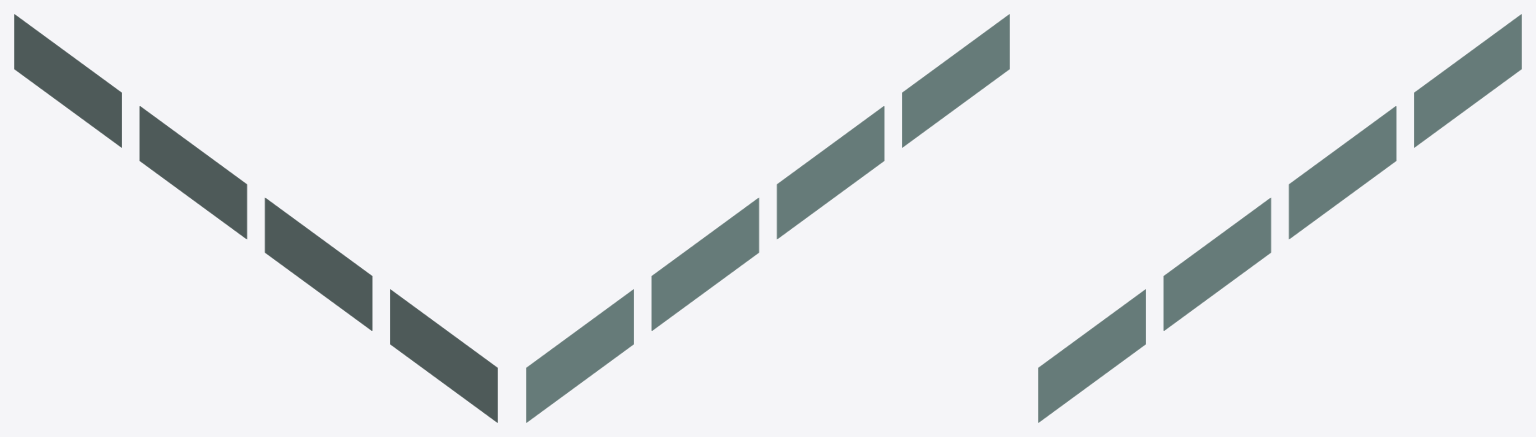
The model's file is mesh_glass_03.fbx.
3 views of the same model, side by side, from view 1: azimuth 30°, elevation 25°; view 2: azimuth 150°, elevation 25°; view 3: azimuth 330°, elevation 25° (orthographic).
Parts seen in each view (by area): view 1: mesh_glass_03; view 2: mesh_glass_03; view 3: mesh_glass_03.
Part boxes in pixels (x1,y1,x2,y2): mesh_glass_03: (14, 14, 497, 422); mesh_glass_03: (526, 14, 1009, 422); mesh_glass_03: (1038, 14, 1521, 422).
Size of the model in its own units: 0.0153 by 1.37 by 21.8.
